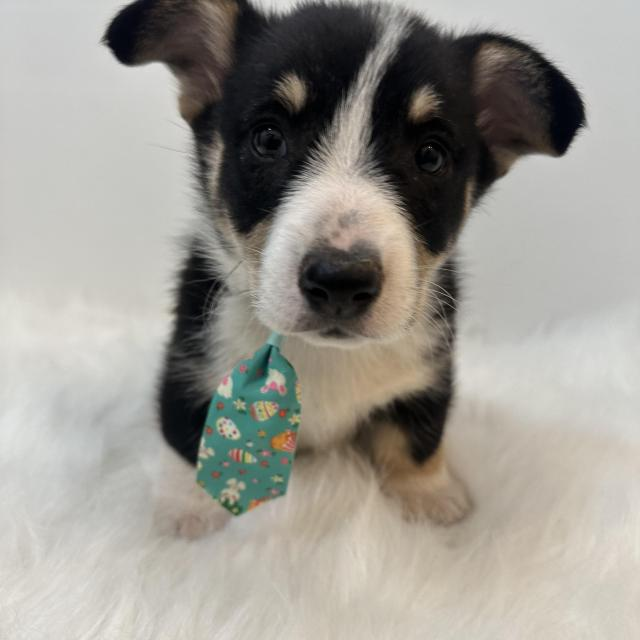corgi_dog: (100, 2, 595, 348)
